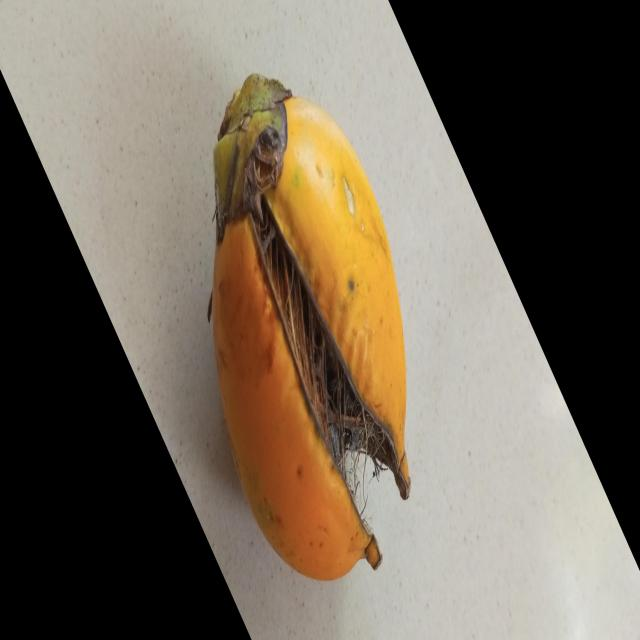damaged: (210, 75, 412, 583)
